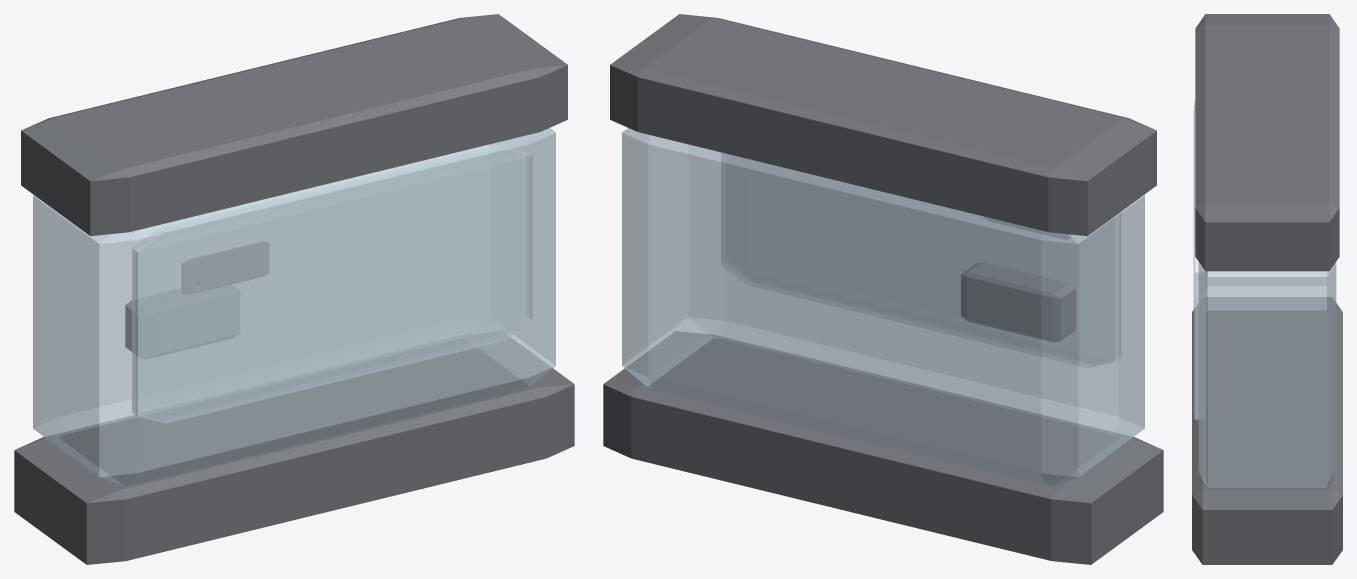
File: b12_projecting_bay_window.glb
3 views of the same model, side by side, from view 1: azimuth 30°, elevation 25°; view 2: azimuth 150°, elevation 25°; view 3: azimuth 270°, elevation 25° (orthographic). The views are drawn at different scales.
Visible parts, largest first — view 1: b12_projecting_bay_window; view 2: b12_projecting_bay_window; view 3: b12_projecting_bay_window.
Boxes of the visible parts, x1=… form: b12_projecting_bay_window: x1=14, y1=14, x2=574, y2=564; b12_projecting_bay_window: x1=603, y1=14, x2=1163, y2=564; b12_projecting_bay_window: x1=1192, y1=14, x2=1342, y2=564.
Bounding box in the file's own units: 2.64 × 2.02 × 0.792.
